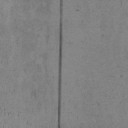surface scratch: (57, 2, 62, 128)
